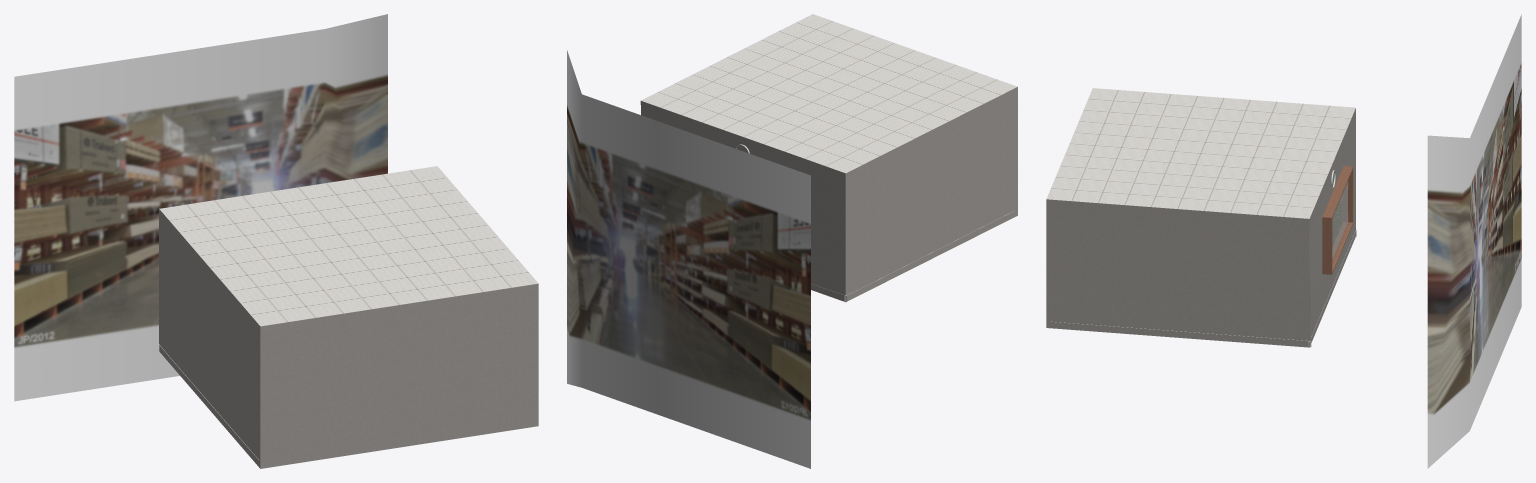
Rendered from EnvWarehouseOffice01.fbx.
The picture shows the model from 3 angles, left to right: view 1: azimuth 30°, elevation 25°; view 2: azimuth 150°, elevation 25°; view 3: azimuth 270°, elevation 25°; orthographic projection. The views are drawn at different scales.
Parts seen in each view (by area): view 1: ExteriorPlane, Room, Room_BackWall; view 2: ExteriorPlane, Room; view 3: Room, ExteriorPlane, WindowFrame, WindowGlass.
Boxes of the visible parts, x1,y1,x2,y2 form: ExteriorPlane: (14,14,387,401); Room: (159,166,538,468); Room_BackWall: (260,283,538,468); ExteriorPlane: (567,50,810,468); Room: (640,14,1017,302); Room: (1046,88,1355,347); ExteriorPlane: (1427,14,1521,468); WindowFrame: (1322,166,1353,274); WindowGlass: (1332,181,1348,259).
Size of the model in its own units: 572 by 627 by 810.
